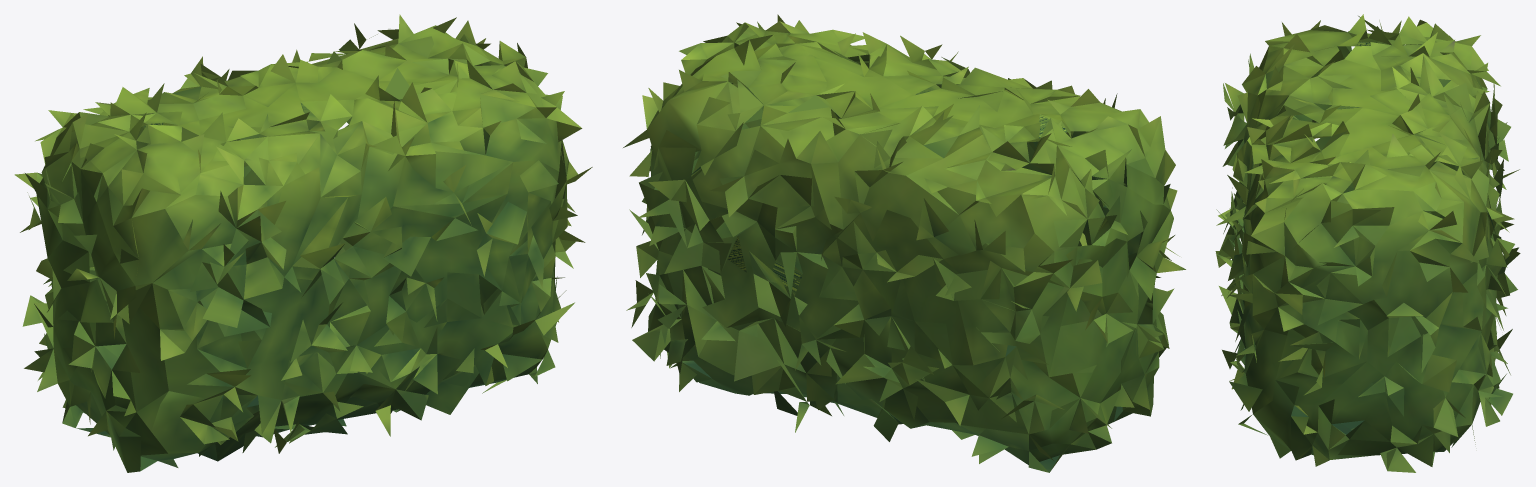
The model's file is hedge_a.glb.
The picture shows the model from 3 angles, left to right: view 1: azimuth 30°, elevation 25°; view 2: azimuth 150°, elevation 25°; view 3: azimuth 270°, elevation 25°; orthographic projection. The views are drawn at different scales.
Size of the model in its own units: 1.9 by 1.19 by 1.13.
Materials: 1 (1 with a texture image).
